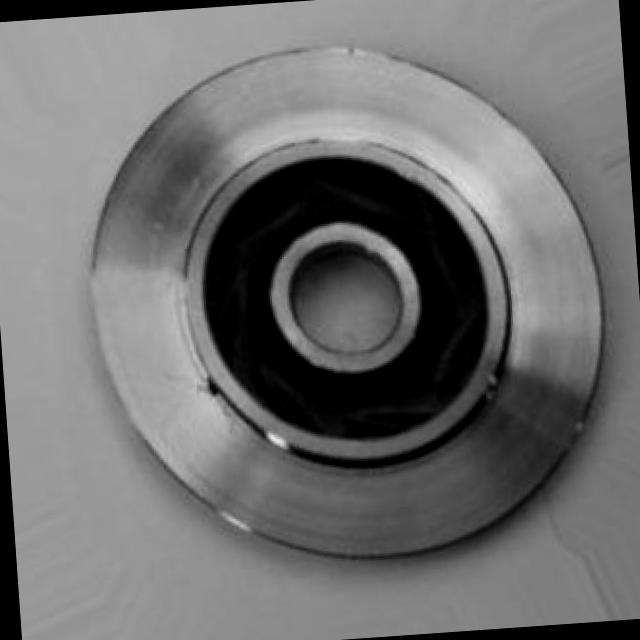Defect: (202, 370, 224, 400)
